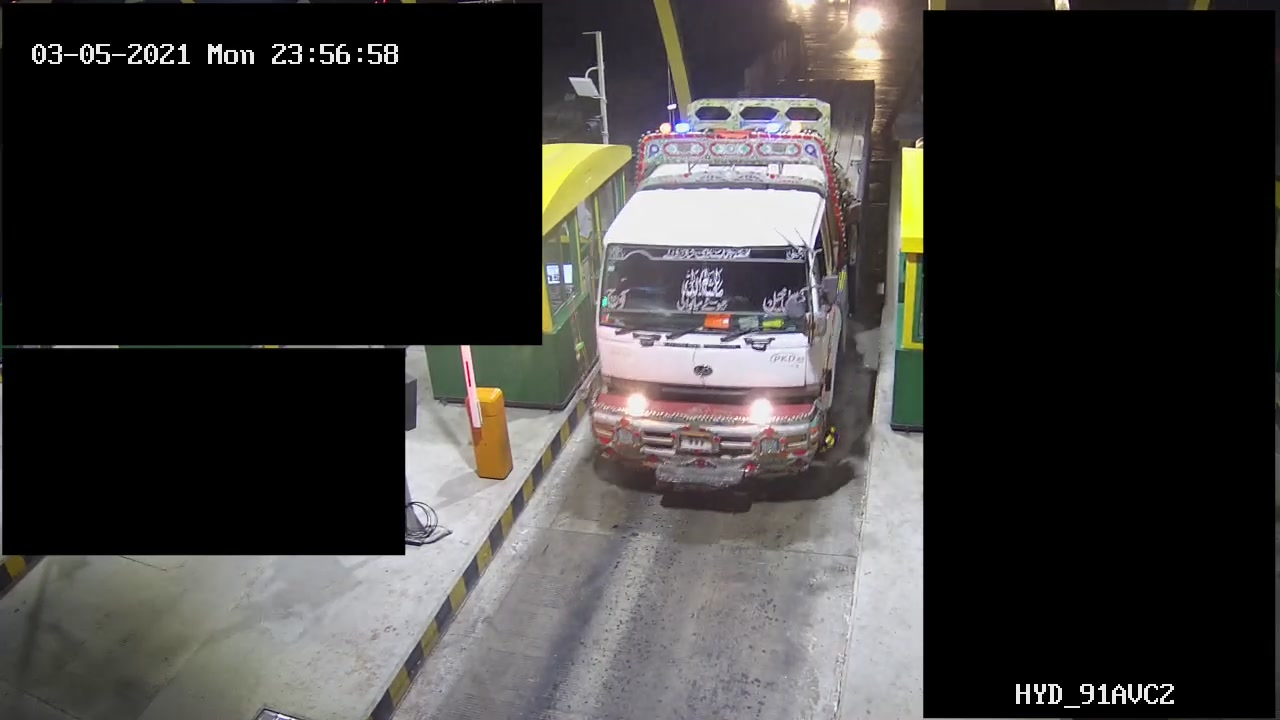F6: (576, 73, 890, 505)
